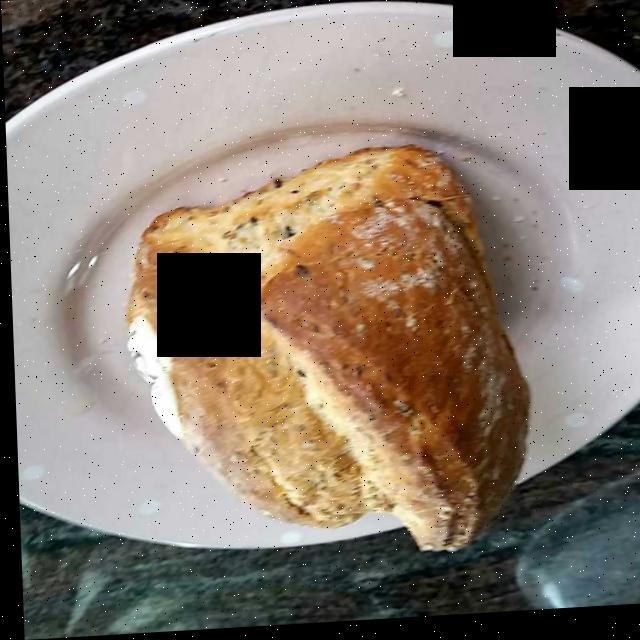bread: (127, 152, 519, 551)
